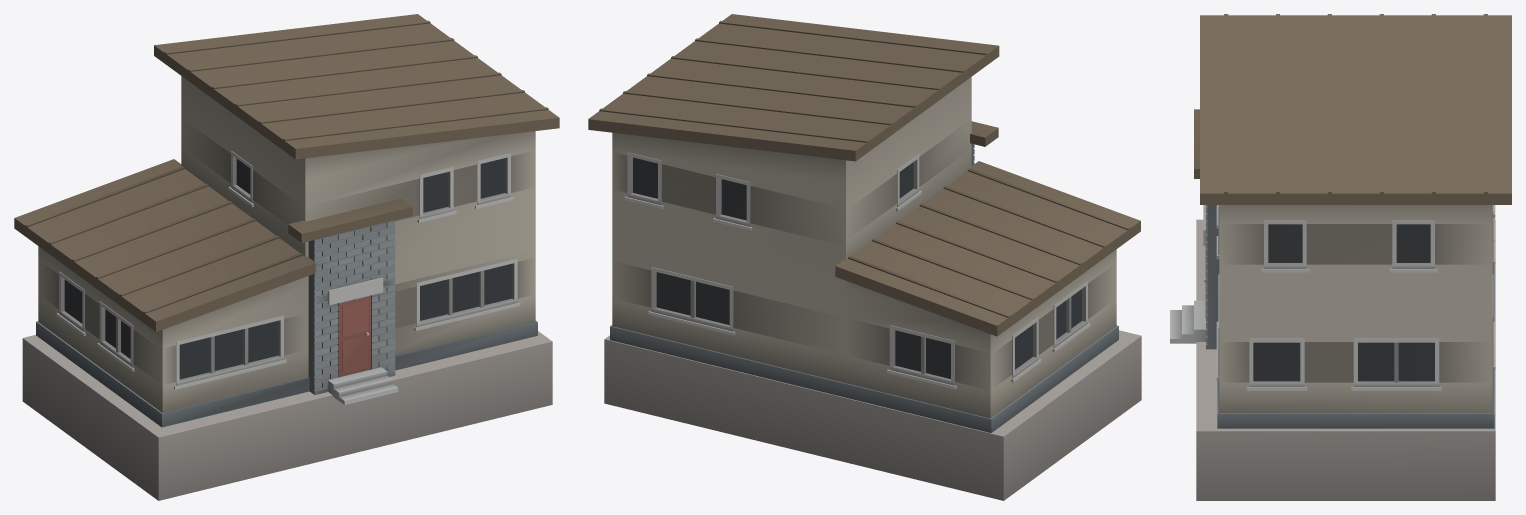
File: split.glb
The picture shows the model from 3 angles, left to right: view 1: azimuth 30°, elevation 25°; view 2: azimuth 150°, elevation 25°; view 3: azimuth 270°, elevation 25°; orthographic projection. The views are drawn at different scales.
Visible parts, largest first — view 1: split; view 2: split; view 3: split.
Part boxes in pixels (left/top/right/bottom): split: left=14, top=14, right=559, bottom=500; split: left=588, top=14, right=1141, bottom=500; split: left=1170, top=14, right=1511, bottom=500.
Size of the model in its own units: 10.2 by 7.69 by 6.8.
